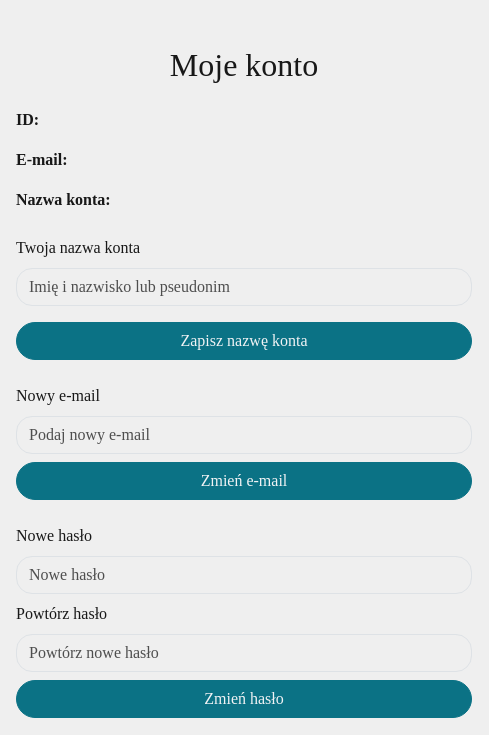
Test: Account Page › shows error when passwords do not match
The image size is (489, 735).
Type "test-password" into the password field with placeholder "Nowe hasło" at (244, 575), box [16,556,472,594]
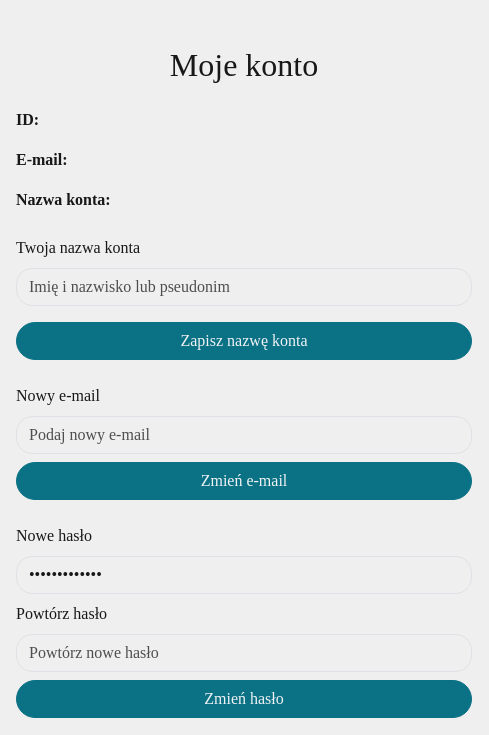
Type "different-test-password" into the password field with placeholder "Powtórz nowe hasło" at (244, 653), box [16,634,472,672]
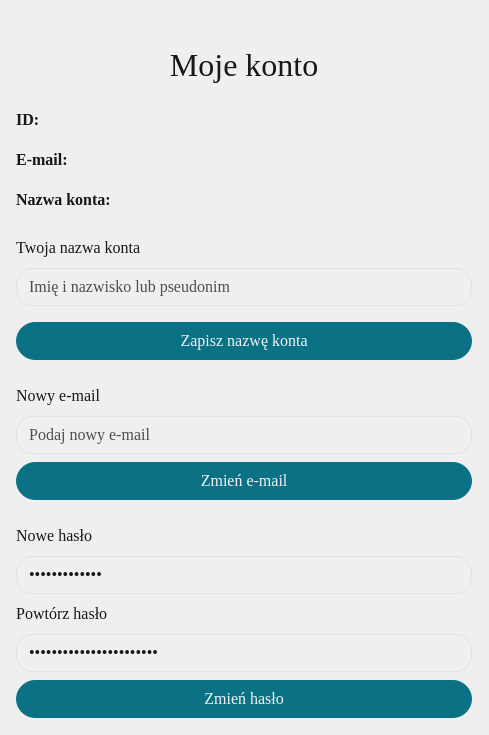
Note: Submit form
Click the button "Zmień hasło" at (244, 699), box [16,680,472,718]
(page scrolled)
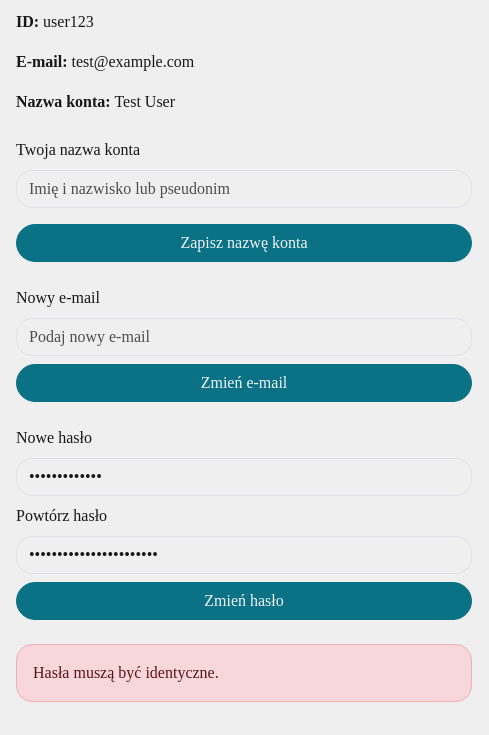
Expected: the text "Hasła muszą być identyczne." is shown, [16,644,472,702]
